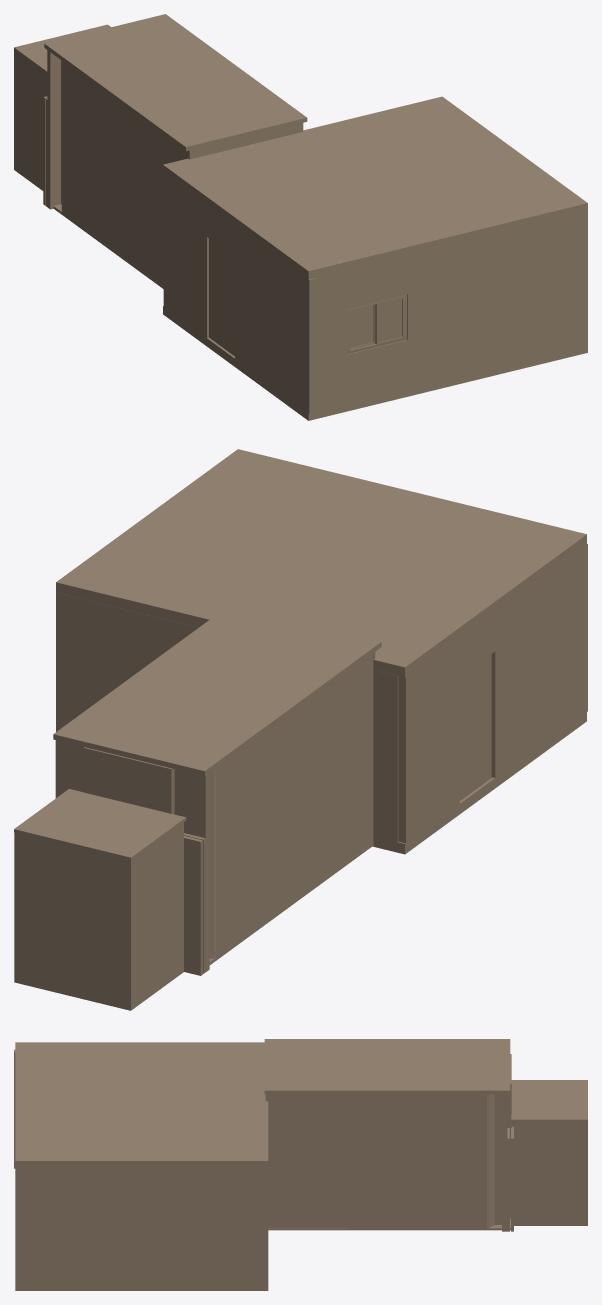
File: 250218_finsh.fbx
The picture shows the model from 3 angles, top to bottom: view 1: azimuth 30°, elevation 25°; view 2: azimuth 150°, elevation 25°; view 3: azimuth 270°, elevation 25°; orthographic projection. The views are drawn at different scales.
Parts seen in each view (by area): view 1: polySurface400, polySurface401, polySurface635, polySurface402, polySurface603, polySurface403, polySurface622, polySurface696, polySurface609, polySurface633, polySurface409, polySurface411 (+2 smaller); view 2: polySurface400, polySurface603, polySurface635, polySurface402, polySurface623, polySurface405, polySurface622, polySurface609, polySurface636, polySurface404, polySurface696, polySurface610 (+3 smaller); view 3: polySurface400, polySurface624, polySurface406, polySurface635, polySurface621, polySurface636, polySurface403, polySurface609, polySurface631.
Boxes of the visible parts, box(x1,y1,x2,y2) form: polySurface400: box(163, 96, 587, 279); polySurface401: box(305, 211, 587, 412); polySurface635: box(44, 14, 307, 151); polySurface402: box(163, 174, 315, 413); polySurface603: box(61, 60, 187, 286); polySurface403: box(163, 306, 587, 420); polySurface622: box(14, 50, 47, 190); polySurface696: box(209, 238, 234, 356); polySurface609: box(47, 50, 60, 209); polySurface633: box(188, 123, 303, 159); polySurface409: box(378, 299, 402, 342); polySurface411: box(349, 305, 373, 347); polySurface400: box(56, 449, 586, 677); polySurface603: box(209, 653, 373, 958); polySurface635: box(53, 605, 381, 776); polySurface402: box(398, 544, 587, 843); polySurface623: box(14, 832, 132, 1009); polySurface405: box(57, 594, 198, 729); polySurface622: box(126, 822, 183, 1010); polySurface609: box(55, 740, 209, 971); polySurface636: box(14, 789, 186, 860); polySurface404: box(373, 670, 398, 843); polySurface696: box(460, 654, 491, 800); polySurface610: box(184, 836, 202, 975); polySurface400: box(15, 1042, 268, 1167); polySurface624: box(268, 1094, 501, 1228); polySurface406: box(15, 1168, 268, 1284); polySurface635: box(264, 1039, 510, 1094); polySurface621: box(514, 1122, 585, 1223); polySurface636: box(511, 1080, 587, 1121); polySurface403: box(15, 1284, 268, 1290); polySurface609: box(502, 1054, 511, 1231); polySurface631: box(268, 1218, 510, 1230).
Size of the model in its own units: 7.79 by 4.36 by 15.95.
